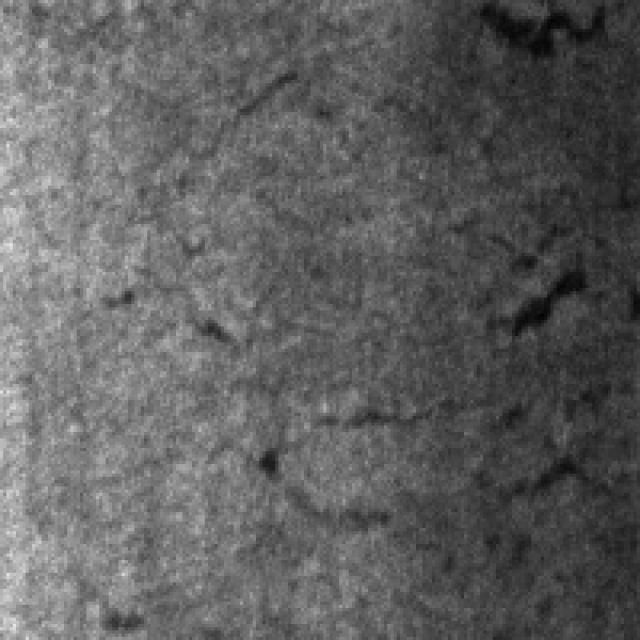crazing: (247, 384, 618, 531)
